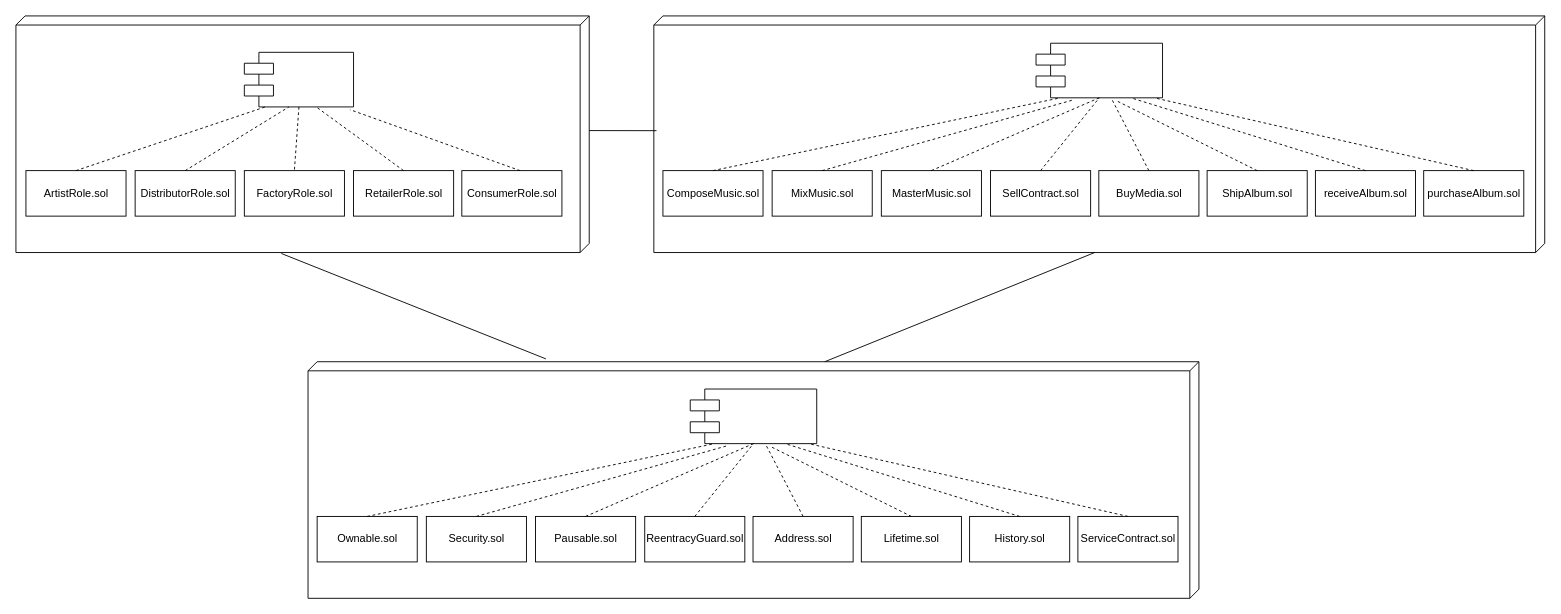
Image size: 1561x614. Some labels were removed from this diagram. The box of each missing label's shape, as (x1, y1, x2, y2) in pixels:
MusicAccessControl: (15, 15, 589, 253)
MusicBase: (653, 15, 1545, 253)
MusicCore: (307, 361, 1199, 598)
Roles.sol: (243, 51, 354, 107)
SupplyChain.sol: (1035, 42, 1163, 98)
ValueChain.sol: (689, 388, 817, 444)
